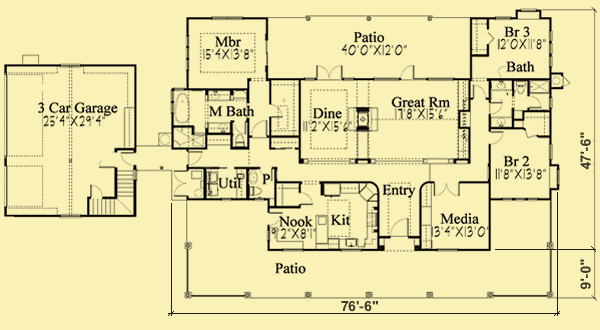door: (314, 63, 345, 82), (432, 180, 462, 199), (388, 217, 411, 241), (250, 118, 271, 141), (172, 168, 188, 197), (487, 127, 506, 149), (468, 83, 490, 101), (266, 102, 285, 122), (396, 64, 416, 83), (120, 149, 138, 169), (297, 188, 315, 208), (525, 93, 544, 111), (187, 147, 204, 167), (232, 118, 251, 135), (487, 98, 504, 115), (485, 29, 497, 46)
large sink: (512, 80, 529, 96), (232, 133, 247, 151), (247, 185, 264, 197)
small sink: (493, 80, 511, 93), (249, 170, 259, 184)
stairs: (84, 166, 137, 219)
tub: (174, 89, 192, 126)
windows: (184, 32, 193, 73), (210, 14, 245, 24), (498, 195, 539, 203), (547, 29, 555, 67), (57, 61, 84, 71), (280, 245, 304, 255), (435, 246, 460, 255), (337, 246, 362, 255), (264, 37, 270, 68), (494, 13, 514, 22), (547, 141, 554, 163)
